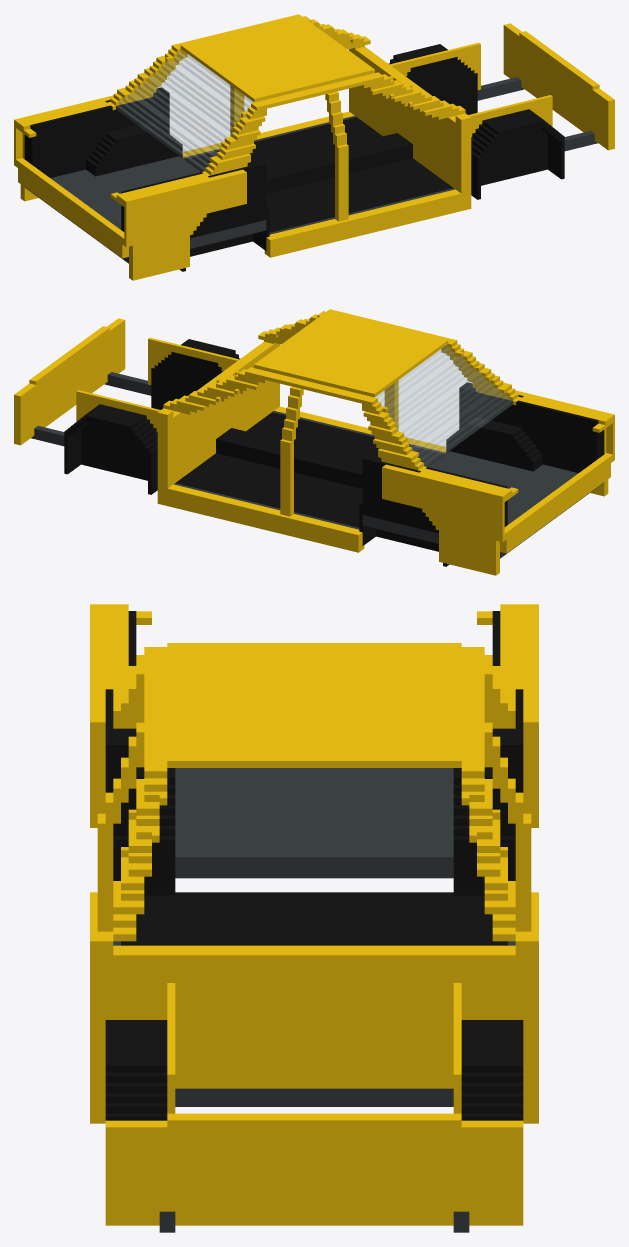
The model's file is taxi_shell.glb.
The picture shows the model from 3 angles, top to bottom: view 1: azimuth 30°, elevation 25°; view 2: azimuth 150°, elevation 25°; view 3: azimuth 270°, elevation 25°; orthographic projection. The views are drawn at different scales.
Visible parts, largest first — view 1: body:compound; view 2: body:compound; view 3: body:compound.
Boxes of the visible parts, x1,y1,x2,y2 form: body:compound: (14, 14, 614, 280); body:compound: (14, 309, 614, 575); body:compound: (90, 604, 538, 1232).
Bounding box in the file's own units: 4.59 × 1.28 × 1.81.
